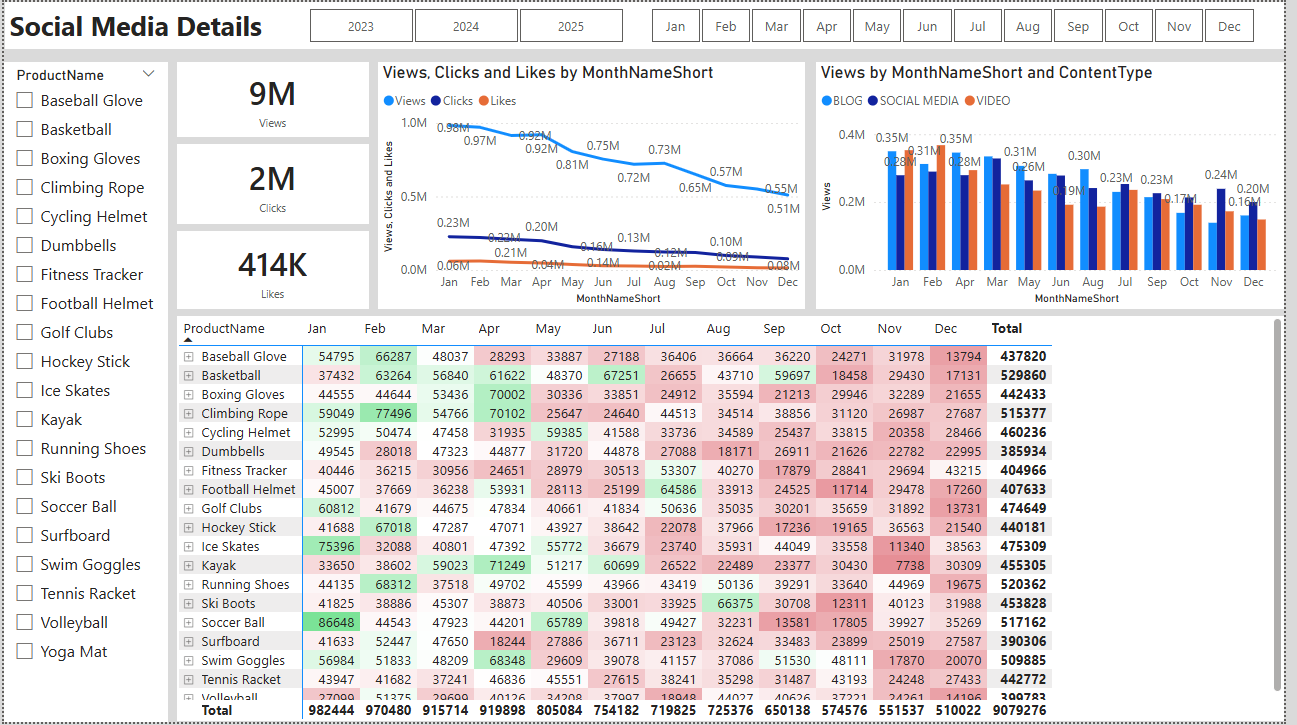

The page's visual inventory and layout, read from the dashboard file:
{"tool":"powerbi","page":{"name":"Social Media Details","canvas":[1280,720],"ordinal":2},"visuals":[{"type":"textbox","box":[1.1,0,1278.9,47.2],"z":0},{"type":"slicer","fields":{"Values":["dim_products.ProductName"]},"box":[0,60.3,164.4,659.5],"z":1000},{"type":"cardVisual","fields":{"Data":["_Calculation.Views"]},"box":[173,60,192,75],"z":2000},{"type":"cardVisual","fields":{"Data":["_Calculation.Clicks"]},"box":[173,142,192,80],"z":3000},{"type":"cardVisual","fields":{"Data":["_Calculation.Likes"]},"box":[173,229,192,78],"z":4000},{"type":"slicer","fields":{"Values":["Calendar.MonthNameShort"]},"box":[622.2,0,652.2,46.7],"z":5000},{"type":"slicer","fields":{"Values":["Calendar.Year"]},"box":[280,0,363.3,46.7],"z":6000},{"type":"lineChart","fields":{"Category":["Calendar.MonthNameShort"],"Y":["_Calculation.Views","_Calculation.Clicks","_Calculation.Likes"]},"box":[374,60,427,247],"z":7000},{"type":"clusteredColumnChart","fields":{"Category":["Calendar.MonthNameShort"],"Y":["_Calculation.Views"],"Series":["fact_engagement_data.ContentType"]},"box":[812,60,468,247],"z":8000},{"type":"pivotTable","fields":{"Rows":["dim_products.ProductName","fact_engagement_data.ContentType"],"Columns":["Calendar.MonthNameShort"],"Values":["_Calculation.Views"]},"box":[173,314,1107,405],"z":9000}]}

Visuals, with their boxes in screenshot pixels (x1, y1, x2, y2), scaled from the page's 1280x720 canvas onto the 1297x725 screenshot:
textbox: bbox=(1, 0, 1296, 48)
slicer - dim_products.ProductName: bbox=(0, 61, 167, 724)
cardVisual - _Calculation.Views: bbox=(175, 60, 370, 136)
cardVisual - _Calculation.Clicks: bbox=(175, 143, 370, 224)
cardVisual - _Calculation.Likes: bbox=(175, 231, 370, 309)
slicer - Calendar.MonthNameShort: bbox=(630, 0, 1291, 47)
slicer - Calendar.Year: bbox=(284, 0, 652, 47)
lineChart - Calendar.MonthNameShort x _Calculation.Views: bbox=(379, 60, 812, 309)
clusteredColumnChart - Calendar.MonthNameShort x _Calculation.Views: bbox=(823, 60, 1296, 309)
pivotTable - dim_products.ProductName x fact_engagement_data.ContentType: bbox=(175, 316, 1296, 724)
